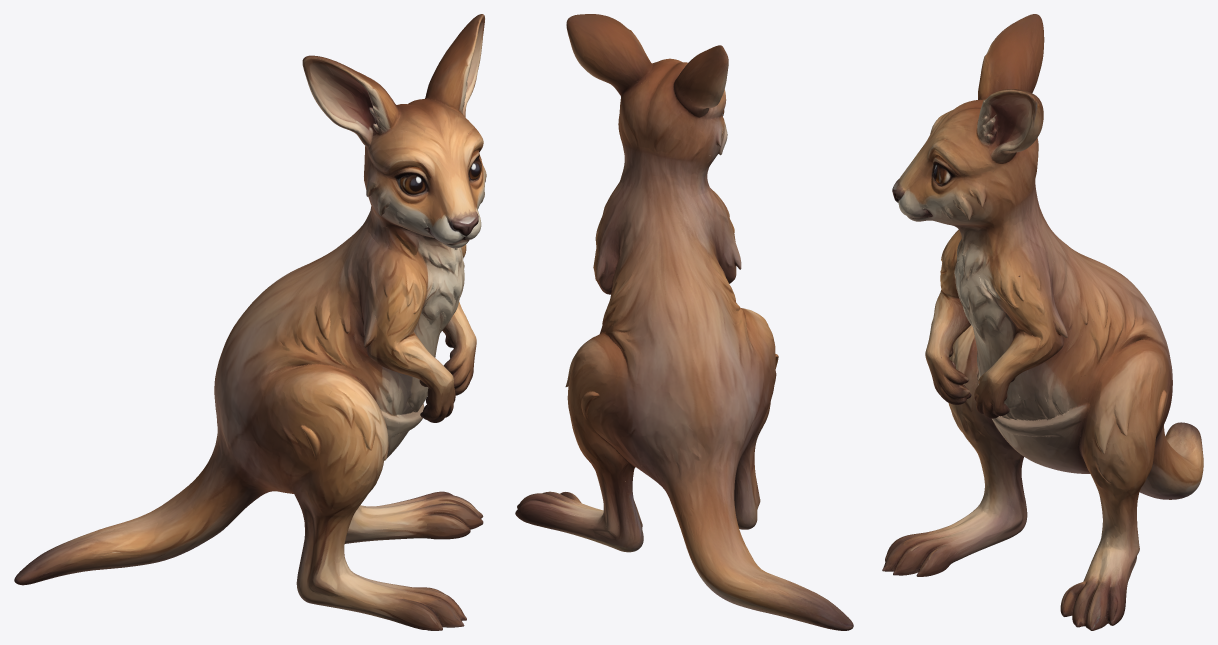
File: kangaroo.glb
The picture shows the model from 3 angles, left to right: view 1: azimuth 30°, elevation 25°; view 2: azimuth 150°, elevation 25°; view 3: azimuth 270°, elevation 25°; orthographic projection. The views are drawn at different scales.
Parts seen in each view (by area): view 1: output_unwrapped; view 2: output_unwrapped; view 3: output_unwrapped.
Part boxes in pixels (<box>): output_unwrapped: <box>14,14,486,630</box>; output_unwrapped: <box>515,14,853,630</box>; output_unwrapped: <box>882,14,1203,630</box>.
Size of the model in its own units: 1.57 by 1.9 by 1.06.
1 material, 1 textured.
